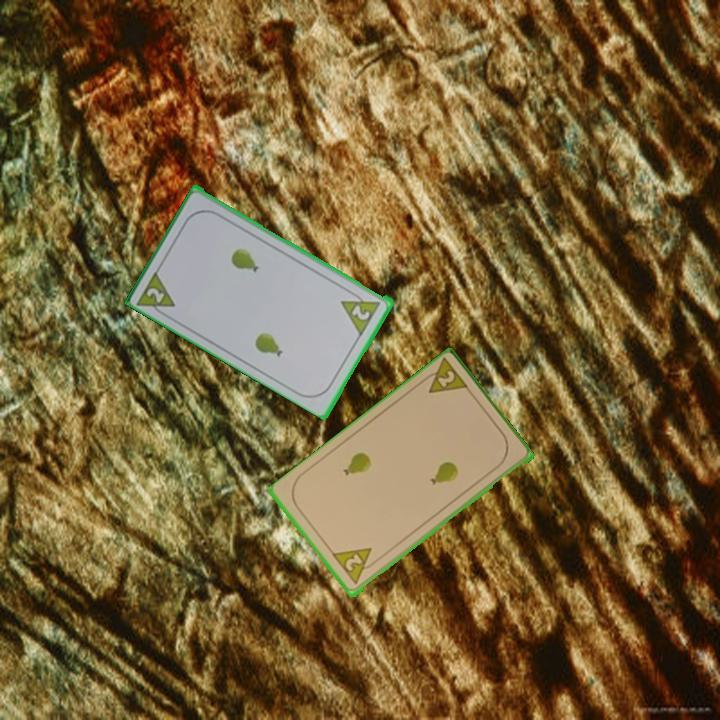2p: (134, 266, 179, 321), (338, 286, 385, 337), (416, 356, 472, 397), (329, 544, 381, 588)
